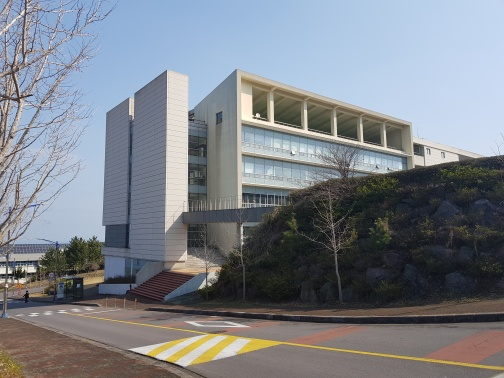Engineering College Building 4: (84, 69, 434, 322), (87, 83, 242, 303), (109, 80, 419, 187)
